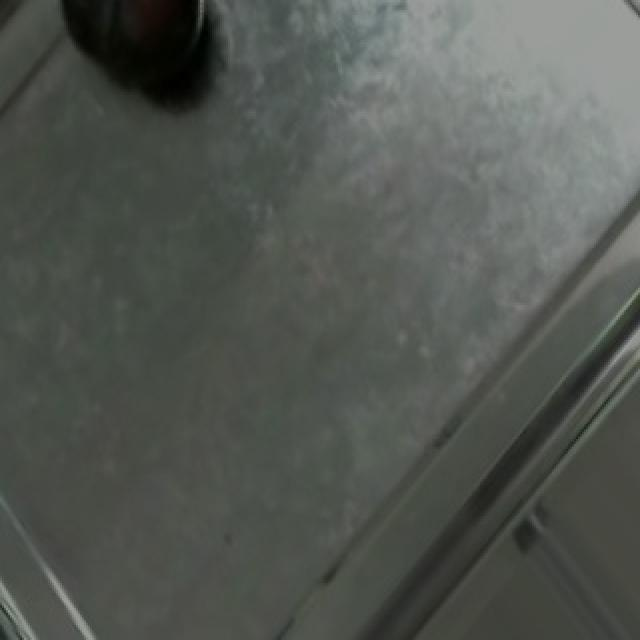Fruit: (40, 0, 228, 114)
